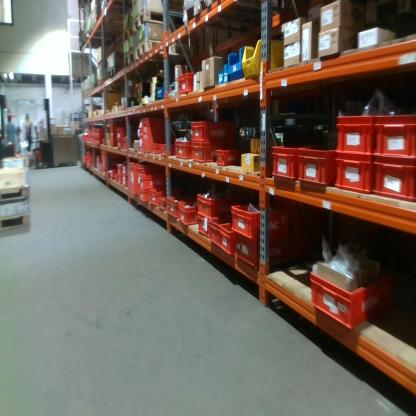pallet: (132, 7, 189, 35), (134, 39, 169, 63), (183, 1, 215, 26), (0, 184, 30, 207), (0, 211, 31, 233), (123, 22, 135, 43), (123, 51, 134, 72), (108, 63, 121, 80), (98, 75, 106, 86), (98, 58, 106, 66)
pallet_truck: (33, 95, 55, 169), (0, 95, 18, 159), (32, 120, 41, 150)
small_load_carrier: (310, 270, 395, 329), (333, 149, 378, 199), (233, 201, 292, 239), (235, 229, 291, 269), (372, 157, 416, 206), (374, 113, 415, 157), (334, 113, 374, 156), (297, 148, 337, 187), (191, 120, 239, 146), (140, 117, 172, 155), (271, 146, 305, 181), (136, 162, 160, 201), (196, 191, 232, 215), (221, 220, 244, 256), (190, 142, 216, 166), (213, 146, 239, 167), (179, 199, 197, 227), (137, 173, 164, 191), (210, 214, 222, 252), (177, 71, 194, 97), (129, 161, 139, 199), (195, 214, 211, 237), (109, 122, 122, 148), (167, 196, 181, 219), (150, 189, 165, 208), (174, 141, 189, 158), (122, 136, 135, 151), (151, 136, 161, 155), (137, 187, 150, 201), (161, 143, 170, 160), (116, 127, 126, 140), (158, 199, 167, 213), (117, 176, 125, 188), (137, 120, 143, 132), (117, 164, 123, 176), (139, 135, 143, 152), (116, 140, 122, 150), (122, 163, 127, 175), (123, 177, 127, 187)
